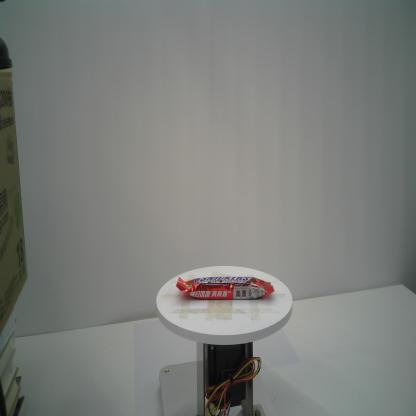Chocolate: (174, 272, 275, 302)
